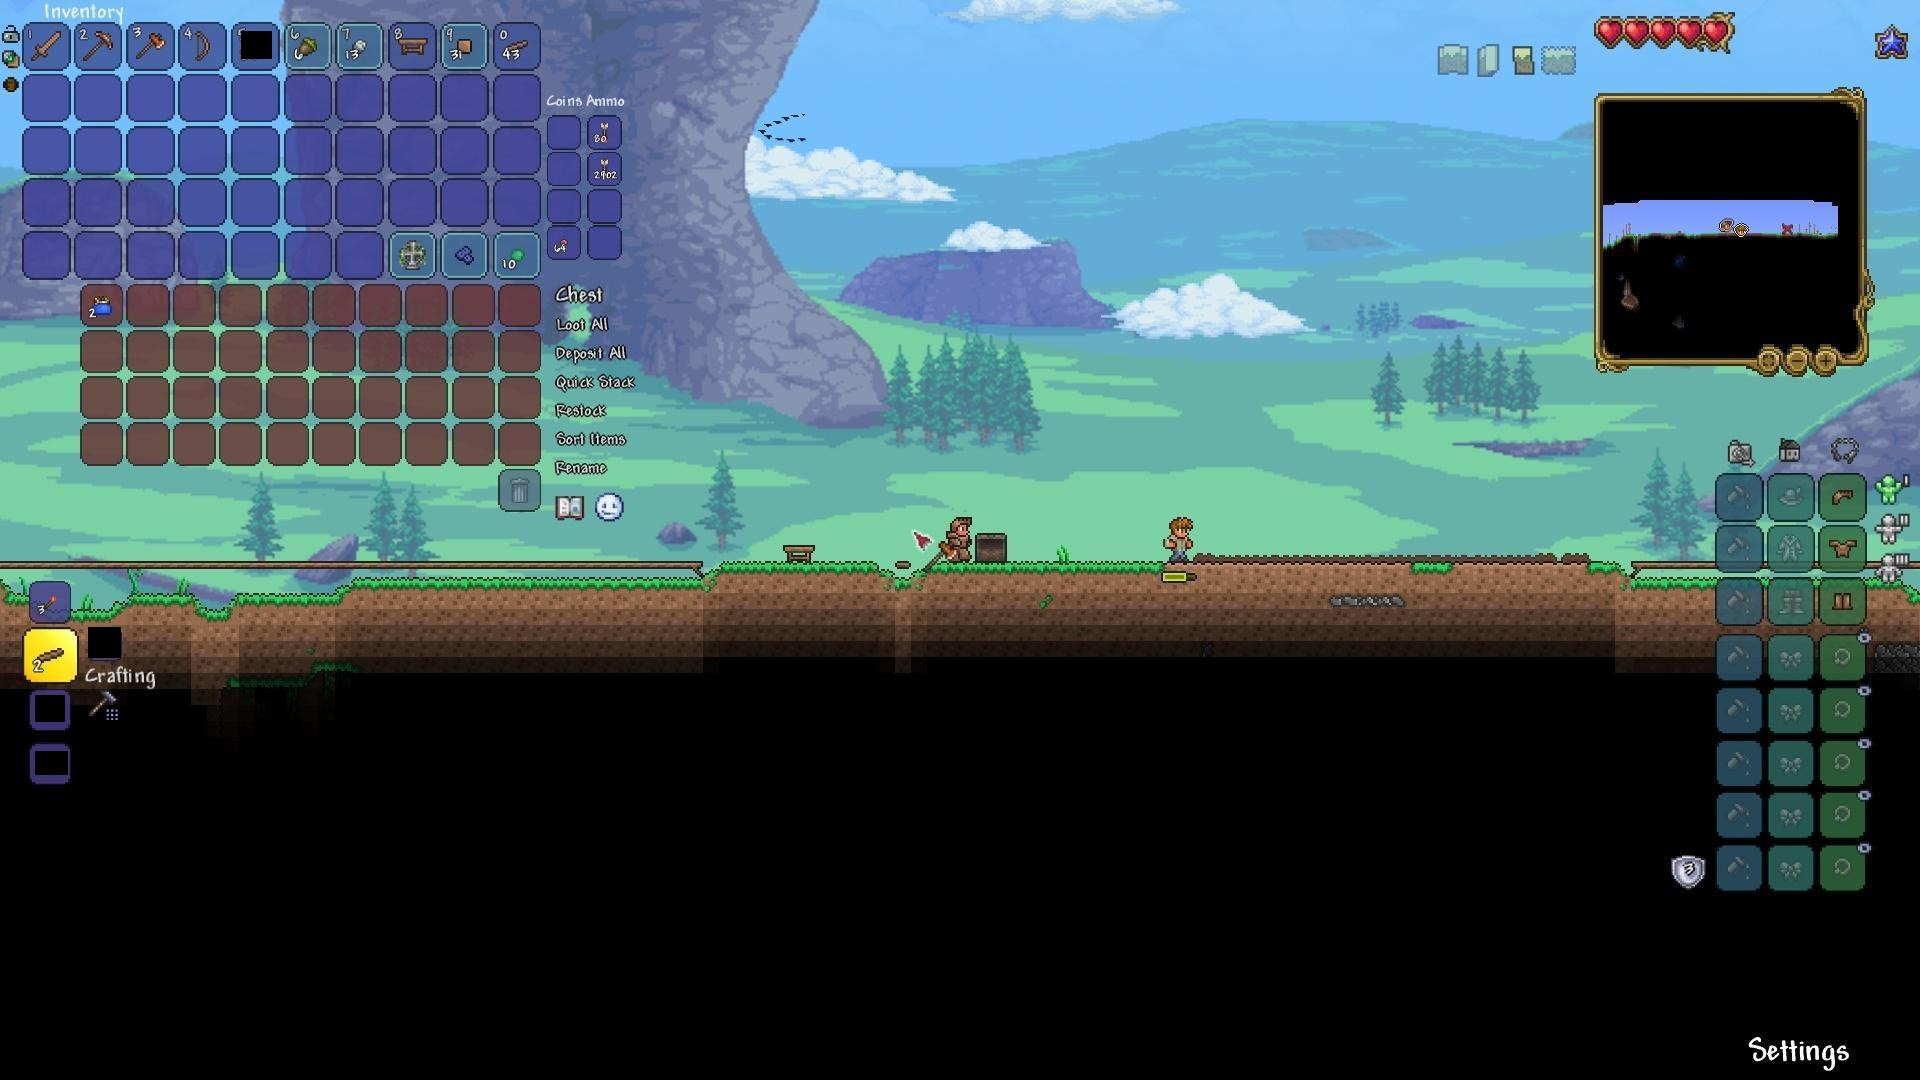breastplate: (1829, 537, 1859, 558)
helmet: (1826, 483, 1858, 512)
legs: (1832, 587, 1855, 616)
workbench: (781, 539, 818, 564), (392, 33, 429, 58)
